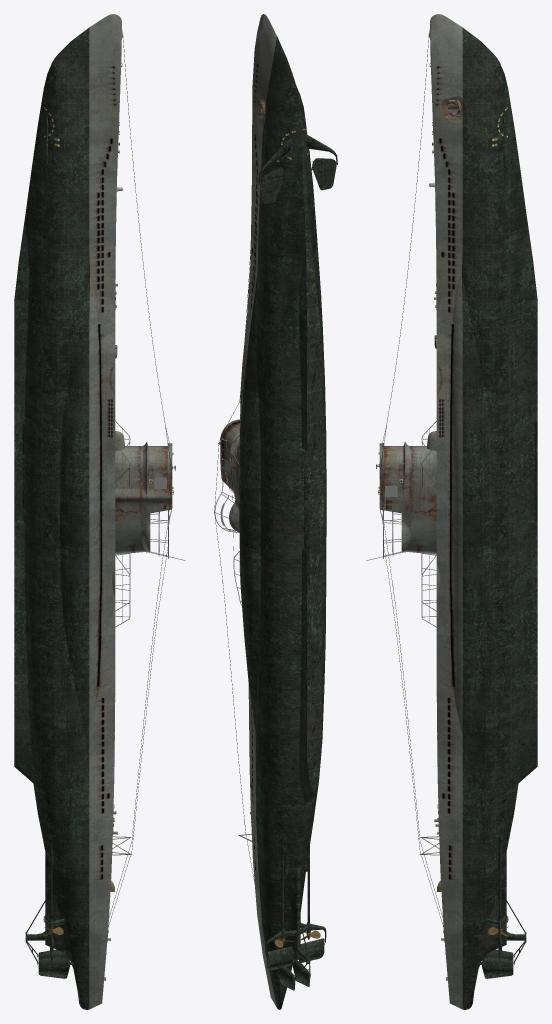
3 renders of one model, left to right at view 1: azimuth 90°, elevation 25°; view 2: azimuth 210°, elevation 25°; view 3: azimuth 270°, elevation 25°, orthographic.
Parts seen in each view (by area): view 1: NSS_Uboat7c; view 2: NSS_Uboat7c; view 3: NSS_Uboat7c.
Boxes of the visible parts, left/top/right/bottom form: NSS_Uboat7c: left=14, top=14, right=185, bottom=1009; NSS_Uboat7c: left=214, top=14, right=337, bottom=1009; NSS_Uboat7c: left=366, top=14, right=537, bottom=1009.
Size of the model in its own units: 0.5718 by 6.74 by 1.05.
